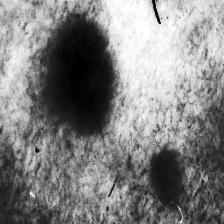Benign Marking or Mole: (52, 22, 114, 136), (150, 148, 182, 205)
